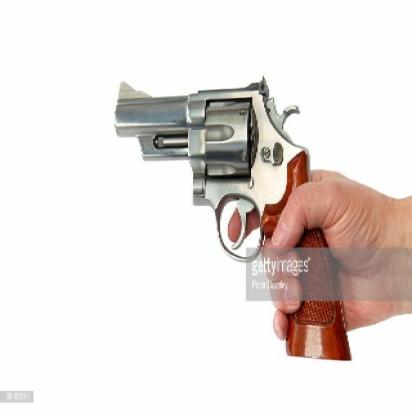Gun: (112, 76, 353, 362)
